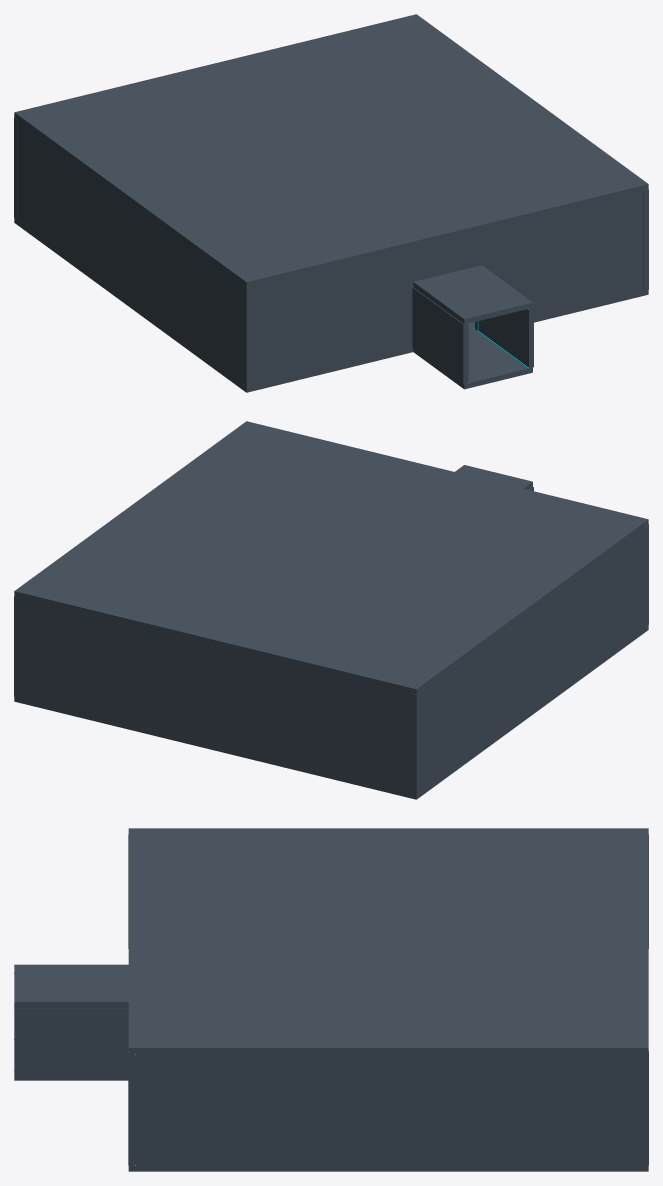
Rendered from neon-geometry-room-connected-20261108.fbx.
3 renders of one model, top to bottom at view 1: azimuth 30°, elevation 25°; view 2: azimuth 150°, elevation 25°; view 3: azimuth 270°, elevation 25°, orthographic. The views are drawn at different scales.
Parts seen in each view (by area): view 1: Room Ceiling, Room Wall Left, Room Wall Front Left, Room Wall Front Right, Entry Tunnel Ceiling, Entry Tunnel Left Wall, Room Floor, Entry Tunnel Floor, Room Wall Entry Header, Entry Tunnel Right Wall, Room Wall Right; view 2: Room Ceiling, Room Wall Back, Room Wall Left, Room Floor, Entry Tunnel Ceiling, Room Wall Right; view 3: Room Ceiling, Room Wall Right, Entry Tunnel Right Wall, Entry Tunnel Ceiling, Room Floor, Room Wall Back, Room Wall Front Right, Entry Tunnel Floor.
Part boxes in pixels (x1,y1,x2,y2): Room Ceiling: (14,14,648,287); Room Wall Left: (17,120,251,387); Room Wall Front Left: (243,246,417,386); Room Wall Front Right: (475,190,643,330); Entry Tunnel Ceiling: (413,265,532,324); Entry Tunnel Left Wall: (412,287,468,384); Room Floor: (14,218,648,392); Entry Tunnel Floor: (413,331,532,389); Room Wall Entry Header: (417,231,477,280); Entry Tunnel Right Wall: (478,307,533,368); Room Wall Right: (643,189,648,290); Room Ceiling: (14,421,648,694); Room Wall Back: (19,597,419,794); Room Wall Left: (411,524,648,794); Room Floor: (14,625,648,799); Entry Tunnel Ceiling: (455,465,532,489); Room Wall Right: (14,596,19,697); Room Ceiling: (128,828,648,1053); Room Wall Right: (128,1051,648,1165); Entry Tunnel Right Wall: (14,1008,128,1075); Entry Tunnel Ceiling: (14,964,128,1007); Room Floor: (128,1165,648,1171); Room Wall Back: (642,1054,648,1165); Room Wall Front Right: (128,1054,134,1165); Entry Tunnel Floor: (14,1075,128,1080).
Size of the model in its own units: 24.04 by 6.3 by 29.31.
